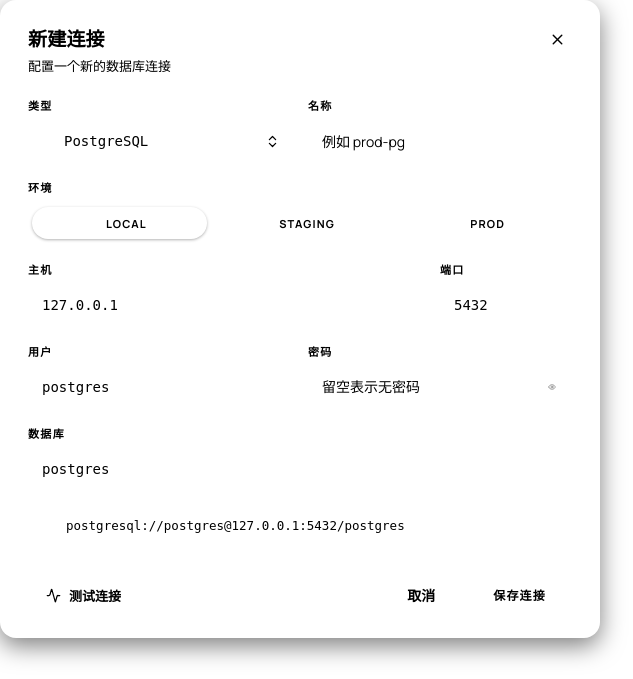
Scenario: test connection: resolves -> success state with elapsed message
What coordinates should you click on to do the following:
click the button "测试连接"
I would click on:
 (84, 595)
Its box is [28,576,139,614].
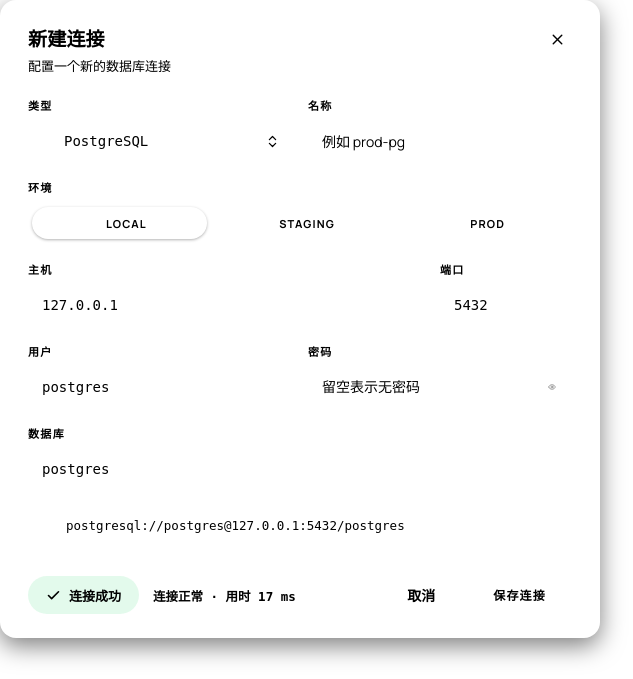
Expected: the button "连接成功" is shown, [28,576,139,614]
Expected: the text "连接正常 · 用时 17 ms" is shown, [153,586,296,604]
